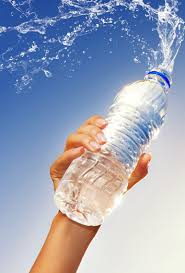Botella: (55, 71, 169, 225)
